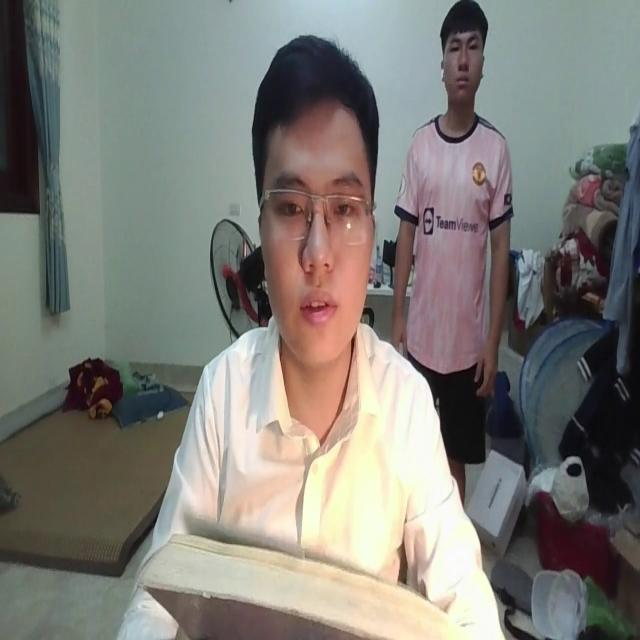book: (133, 499, 472, 640)
extra_person: (388, 0, 513, 499)
student: (124, 32, 498, 640)
